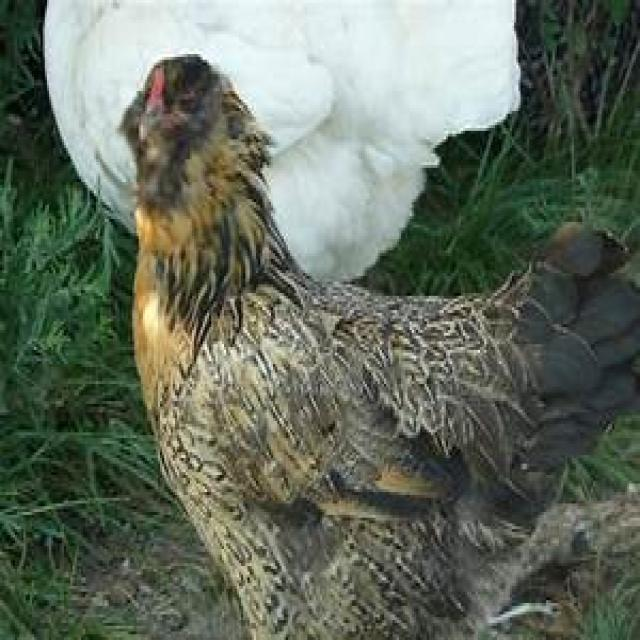hen: (117, 54, 640, 640)
